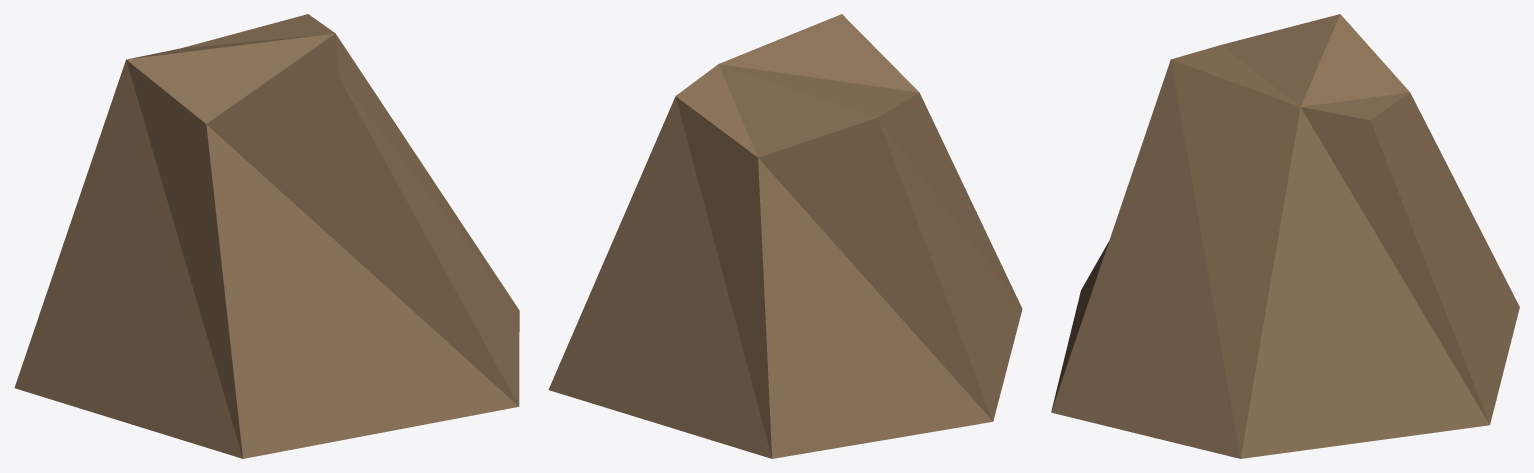
Rendered from rock.obj.
3 views of the same model, side by side, from view 1: azimuth 30°, elevation 25°; view 2: azimuth 150°, elevation 25°; view 3: azimuth 270°, elevation 25° (orthographic). The views are drawn at different scales.
Size of the model in its own units: 1.02 by 0.66 by 0.94.
